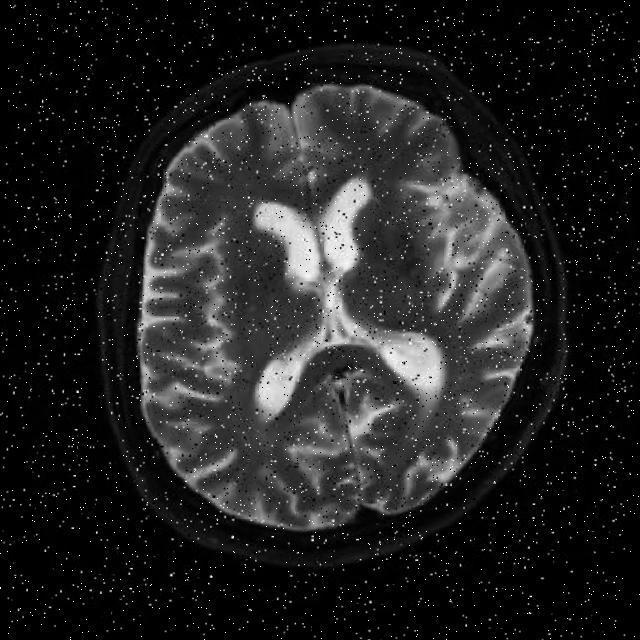LMCI: (295, 348, 384, 468)
